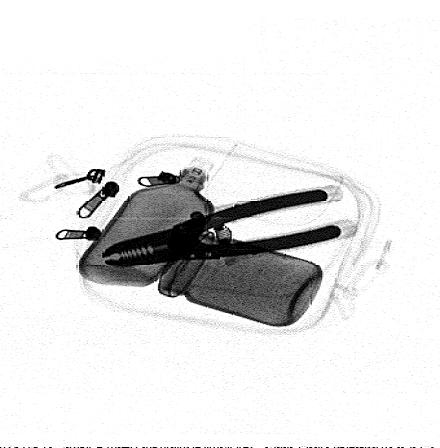Pliers: (99, 189, 341, 266)
